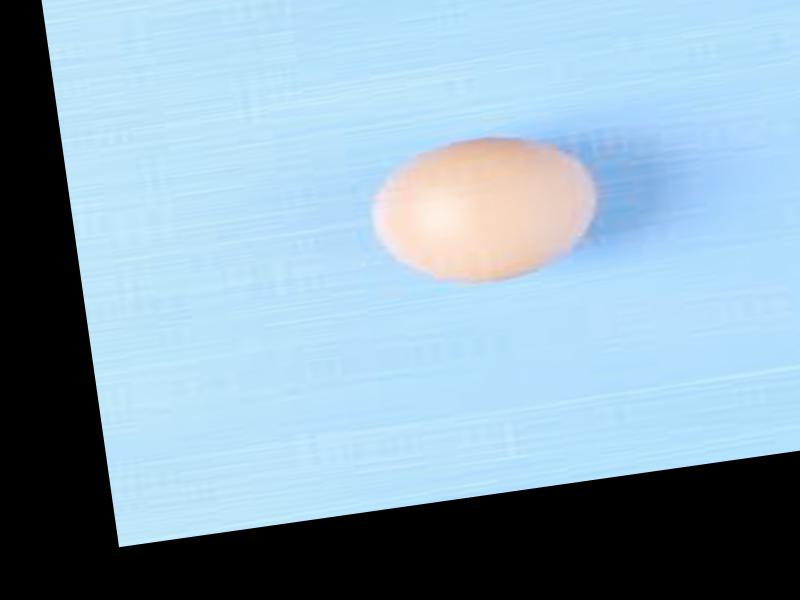Eggs: (360, 123, 613, 296)
